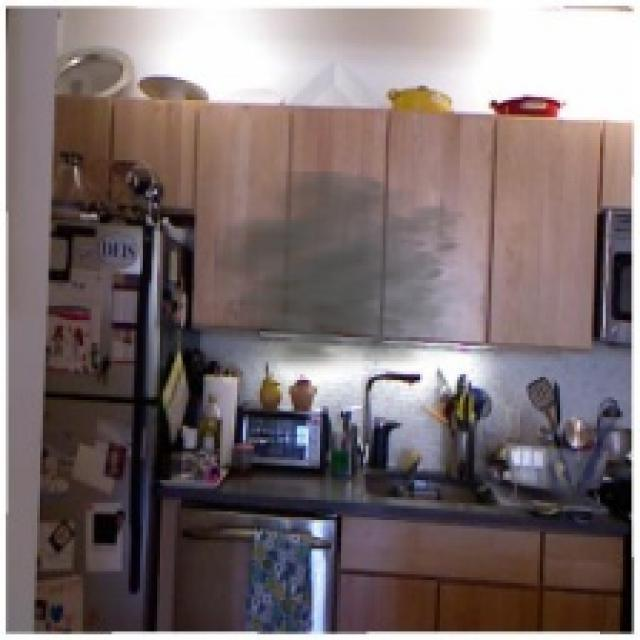Smoke: (215, 171, 494, 380)
